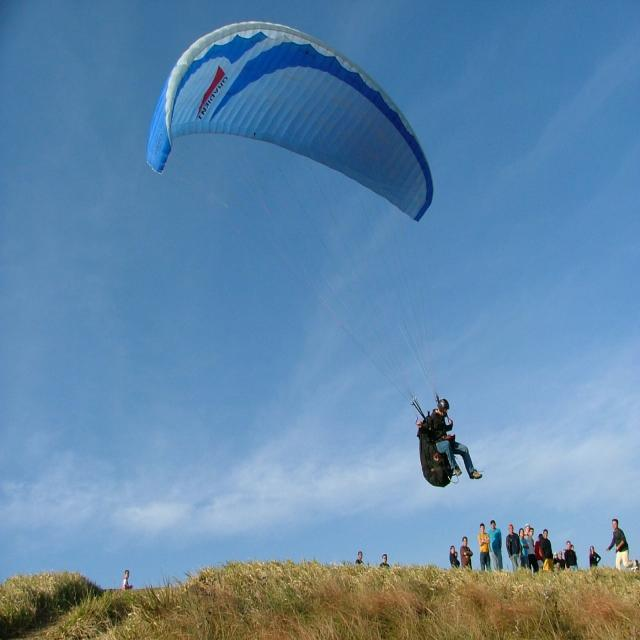paraglider: (144, 19, 434, 222)
